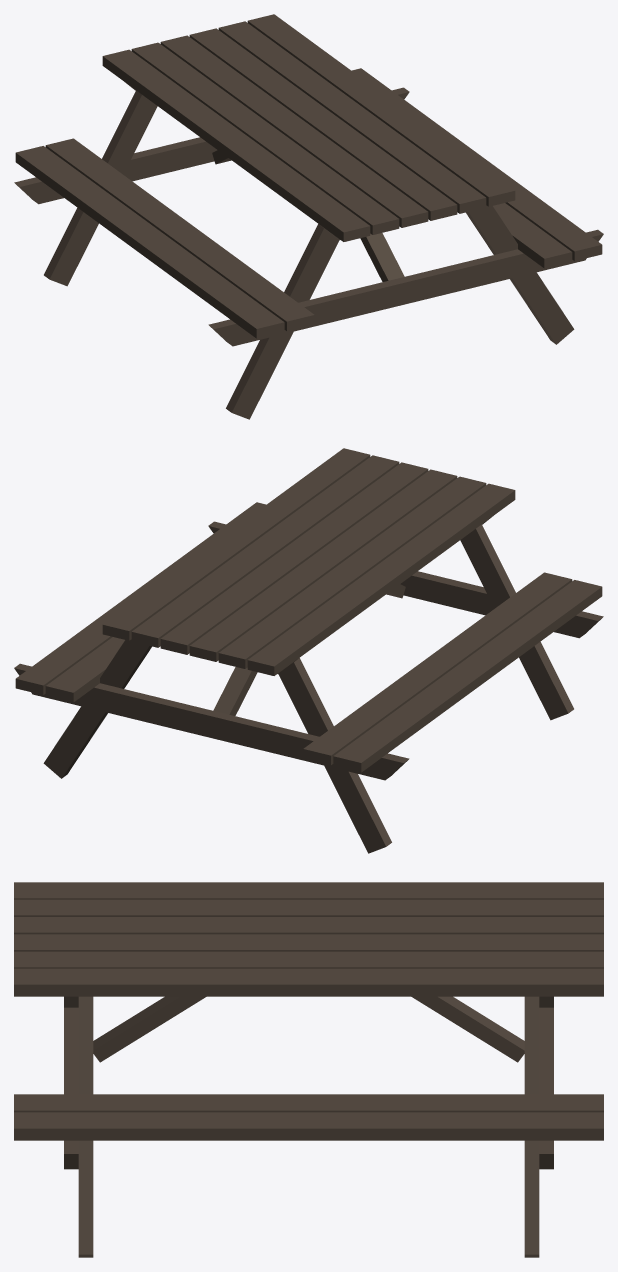
The model's file is SM_Prop_cafe_picnic_1_LOD1.glb.
The picture shows the model from 3 angles, top to bottom: view 1: azimuth 30°, elevation 25°; view 2: azimuth 150°, elevation 25°; view 3: azimuth 270°, elevation 25°; orthographic projection. The views are drawn at different scales.
Visible parts, largest first — view 1: SM_Prop_cafe_picnic_1_LOD1; view 2: SM_Prop_cafe_picnic_1_LOD1; view 3: SM_Prop_cafe_picnic_1_LOD1.
Part boxes in pixels (<box>): SM_Prop_cafe_picnic_1_LOD1: <box>14,14,603,419</box>; SM_Prop_cafe_picnic_1_LOD1: <box>14,448,603,853</box>; SM_Prop_cafe_picnic_1_LOD1: <box>14,882,603,1257</box>.
Size of the model in its own units: 1.68 by 0.7831 by 1.8.
